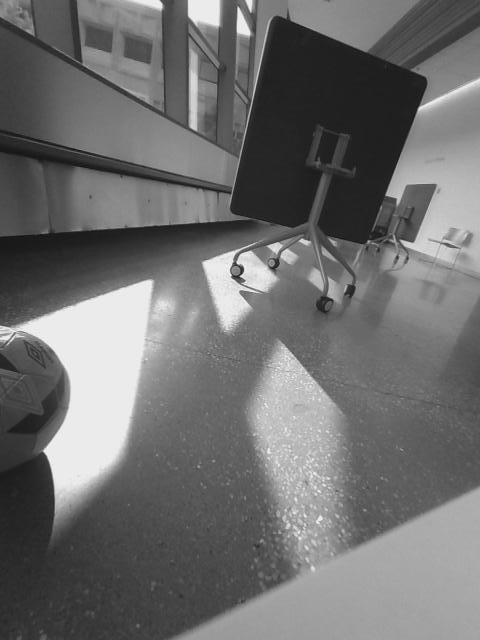ball: (4, 316, 75, 482)
